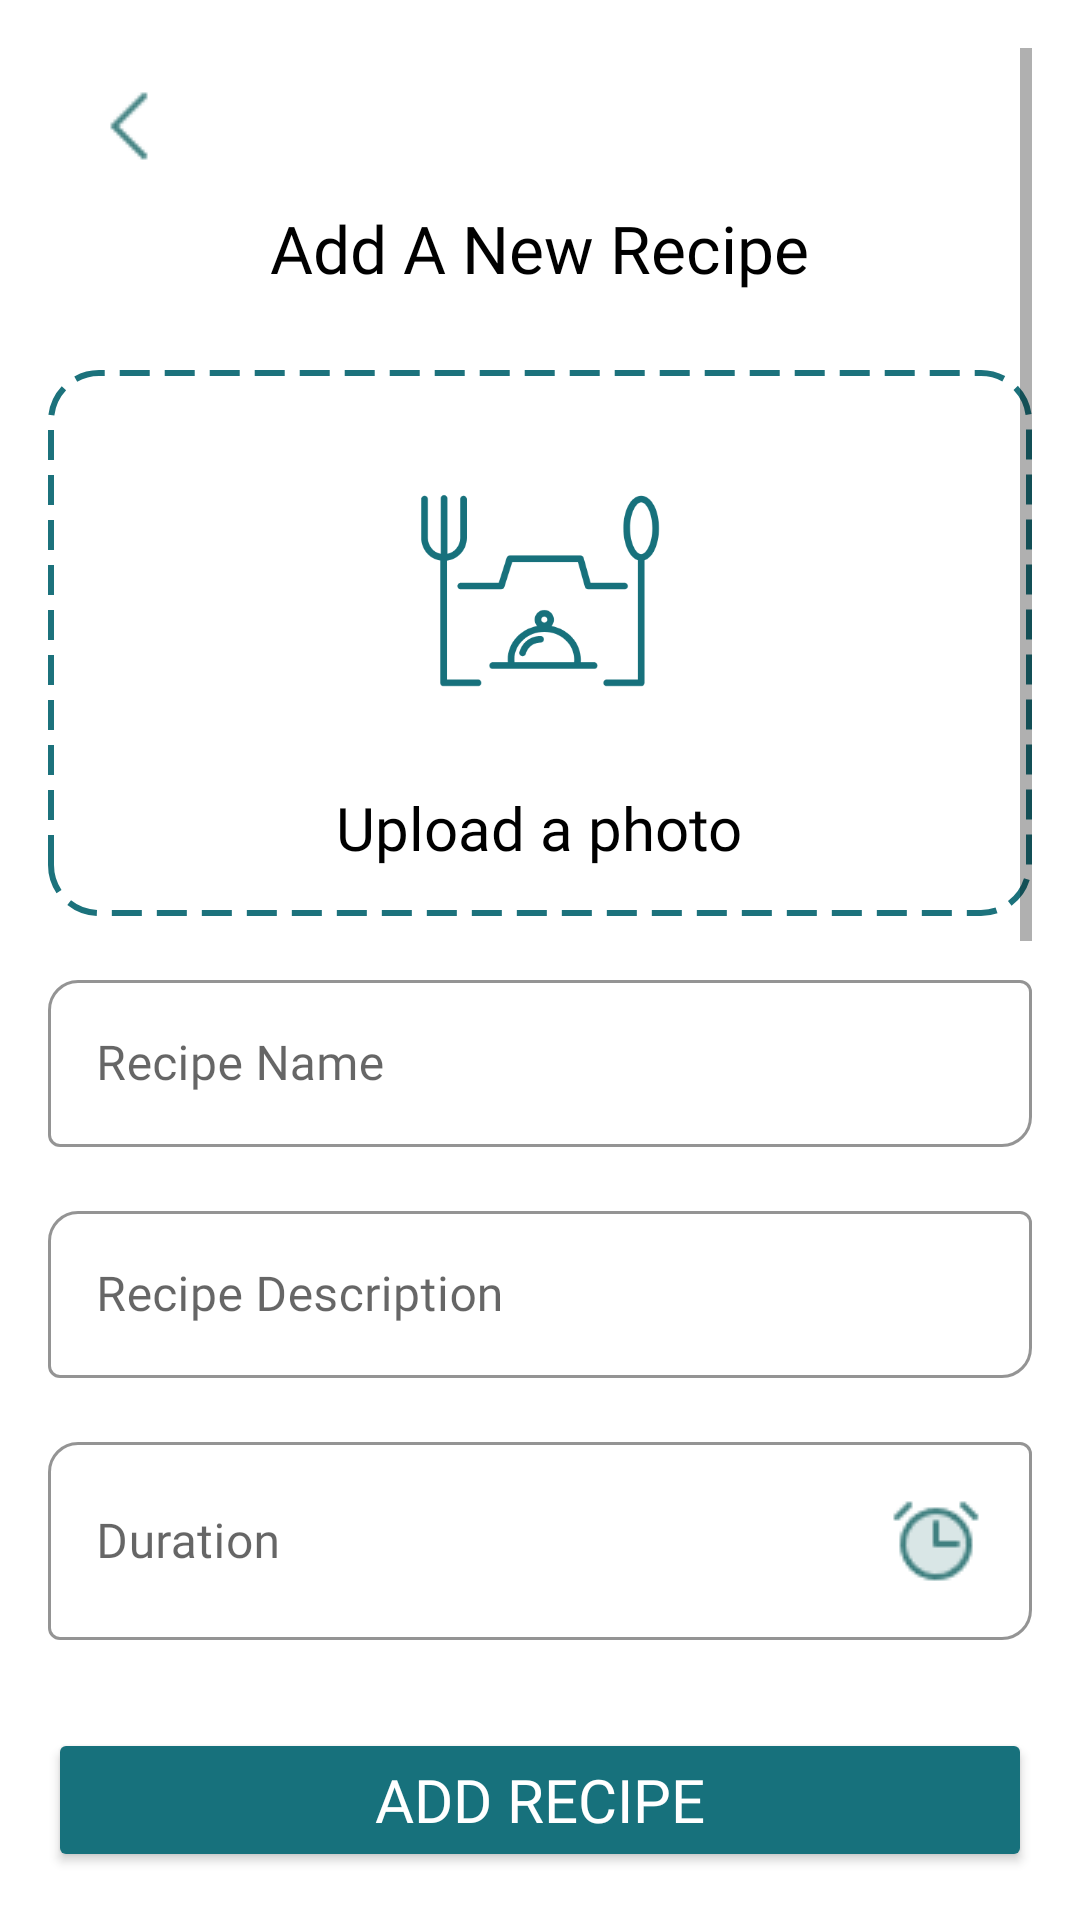

Screen size 1080px x 1920px. Icon name, then its box in pixels as (x1, y1, x2, y2):
arrow left: (110, 92, 148, 160)
